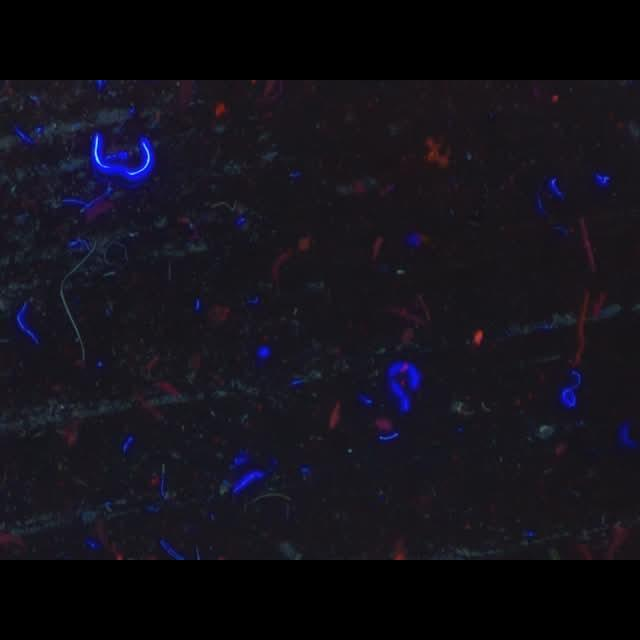Fragment: (424, 137, 449, 167)
